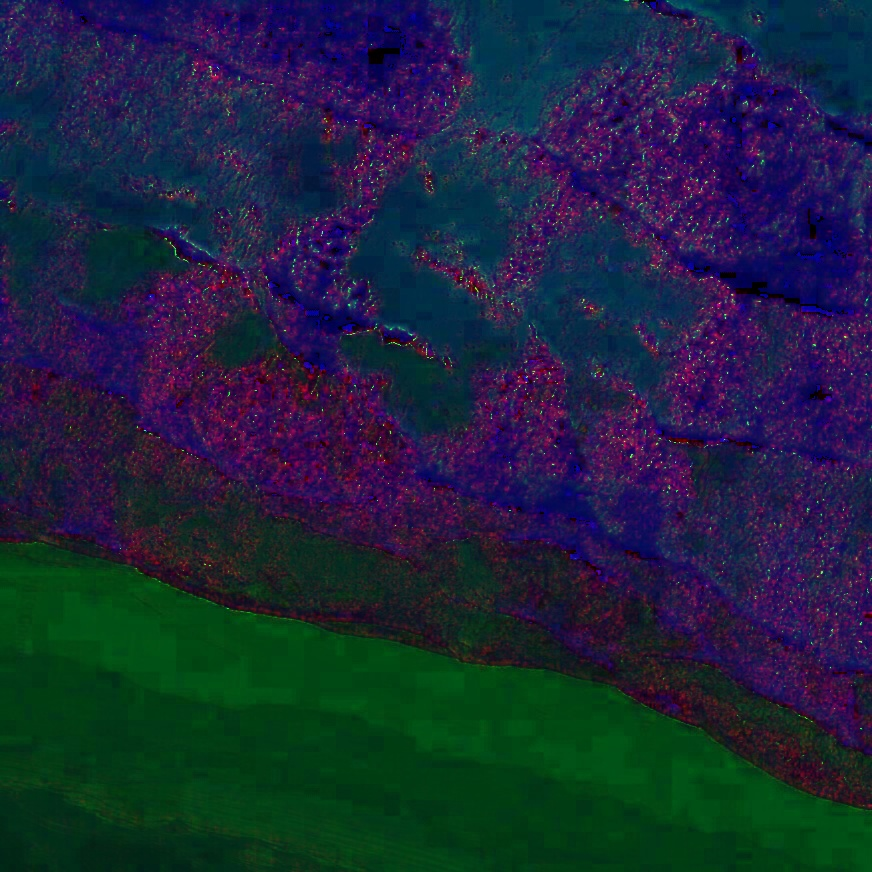rip_current: (352, 27, 648, 563)
